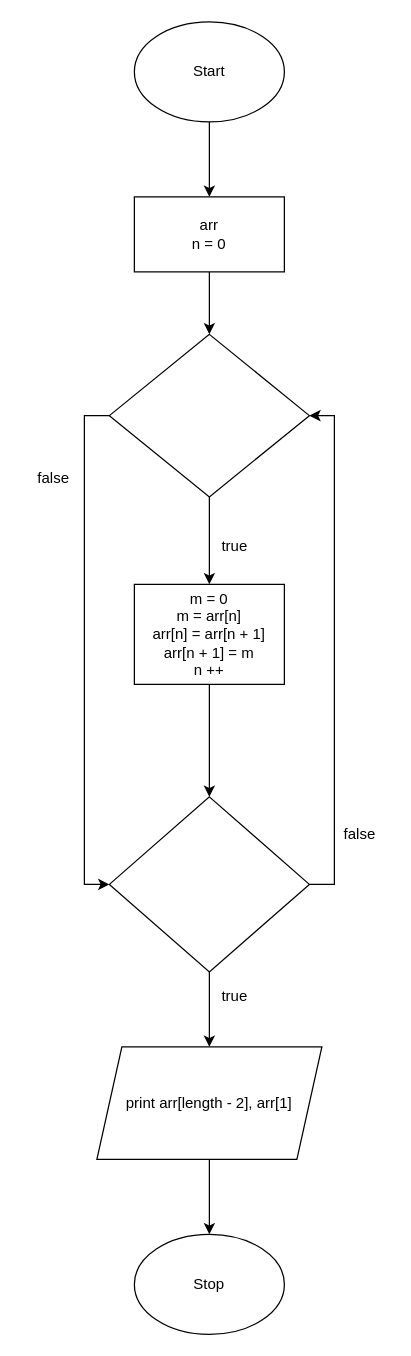
This 411x1356 diagram has some shape labels left out. Here are the shapes that lost their labels. From the top down, the centre of each, then its label:
At [208,415]: "arr[n] > arr[n + 1]".
At [208,884]: "n == length - 1".
